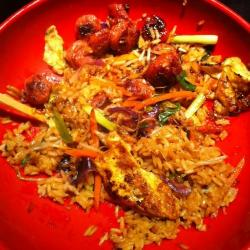rice: (48, 55, 202, 197)
